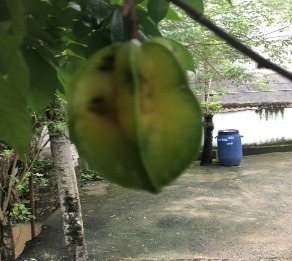Khe: (64, 36, 214, 196)
